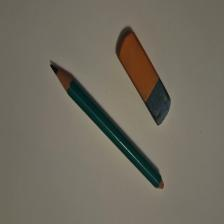eraser: (118, 33, 172, 128)
pencil: (51, 65, 165, 191)
